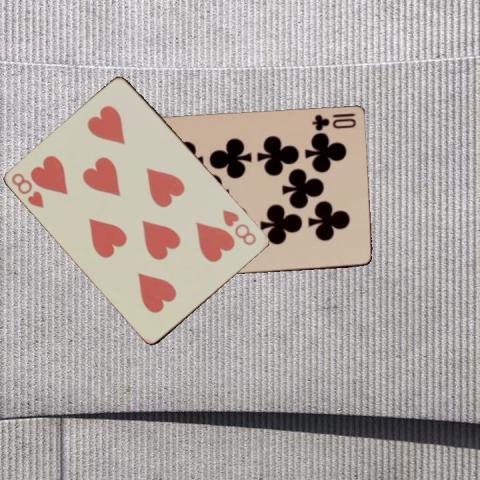10c: (309, 111, 357, 132)
8h: (218, 206, 258, 247), (9, 169, 46, 210)
